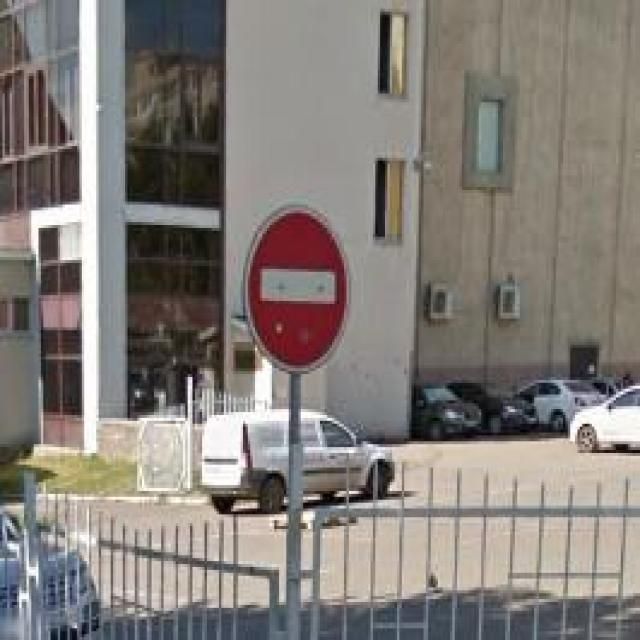do_not_enter: (238, 199, 351, 377)
